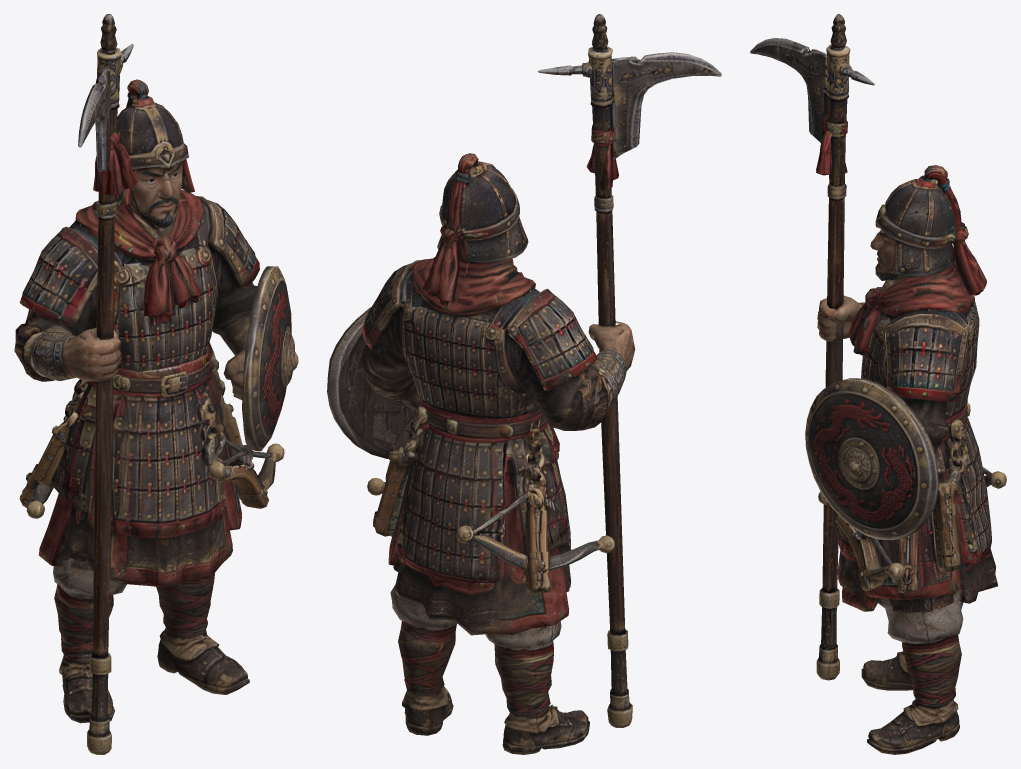
Rendered from soldier-medieval.glb.
3 renders of one model, left to right at view 1: azimuth 30°, elevation 25°; view 2: azimuth 150°, elevation 25°; view 3: azimuth 270°, elevation 25°, orthographic. The views are drawn at different scales.
Visible parts, largest first — view 1: tripo_02fb242f_bd59_4ef4_aeb5_8be8fdc8ea1a; view 2: tripo_02fb242f_bd59_4ef4_aeb5_8be8fdc8ea1a; view 3: tripo_02fb242f_bd59_4ef4_aeb5_8be8fdc8ea1a.
Part boxes in pixels (x1=…): tripo_02fb242f_bd59_4ef4_aeb5_8be8fdc8ea1a: x1=14, y1=14, x2=298, y2=754; tripo_02fb242f_bd59_4ef4_aeb5_8be8fdc8ea1a: x1=327, y1=14, x2=721, y2=754; tripo_02fb242f_bd59_4ef4_aeb5_8be8fdc8ea1a: x1=750, y1=14, x2=1006, y2=754.
Size of the model in its own units: 0.439 by 0.9995 by 0.3481.
Materials: 1 (1 with a texture image).
